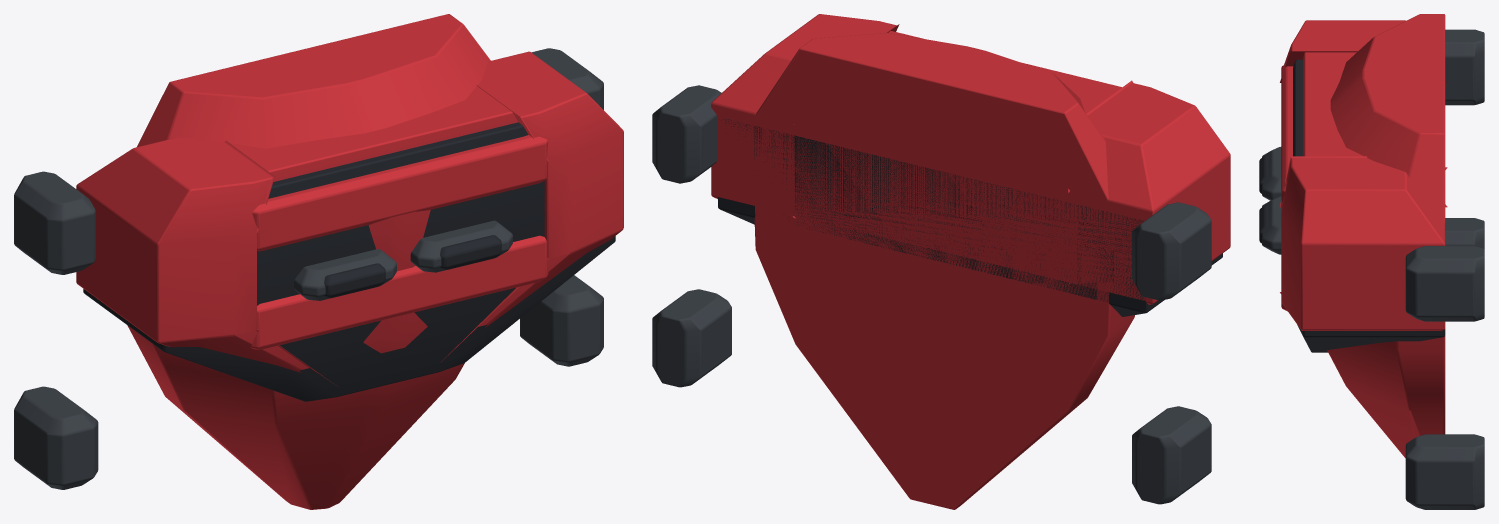
The model's file is LowerArmBack_Set05_Afterburn.fbx.
The picture shows the model from 3 angles, left to right: view 1: azimuth 30°, elevation 25°; view 2: azimuth 150°, elevation 25°; view 3: azimuth 270°, elevation 25°; orthographic projection. The views are drawn at different scales.
Visible parts, largest first — view 1: LowerArmBack_Set05_Afterburn; view 2: LowerArmBack_Set05_Afterburn; view 3: LowerArmBack_Set05_Afterburn.
Part boxes in pixels (box(x1,y1,x2,y2)): LowerArmBack_Set05_Afterburn: box(14, 14, 623, 509); LowerArmBack_Set05_Afterburn: box(652, 14, 1230, 509); LowerArmBack_Set05_Afterburn: box(1259, 14, 1484, 509).
Size of the model in its own units: 0.43 by 0.33 by 0.1715.
